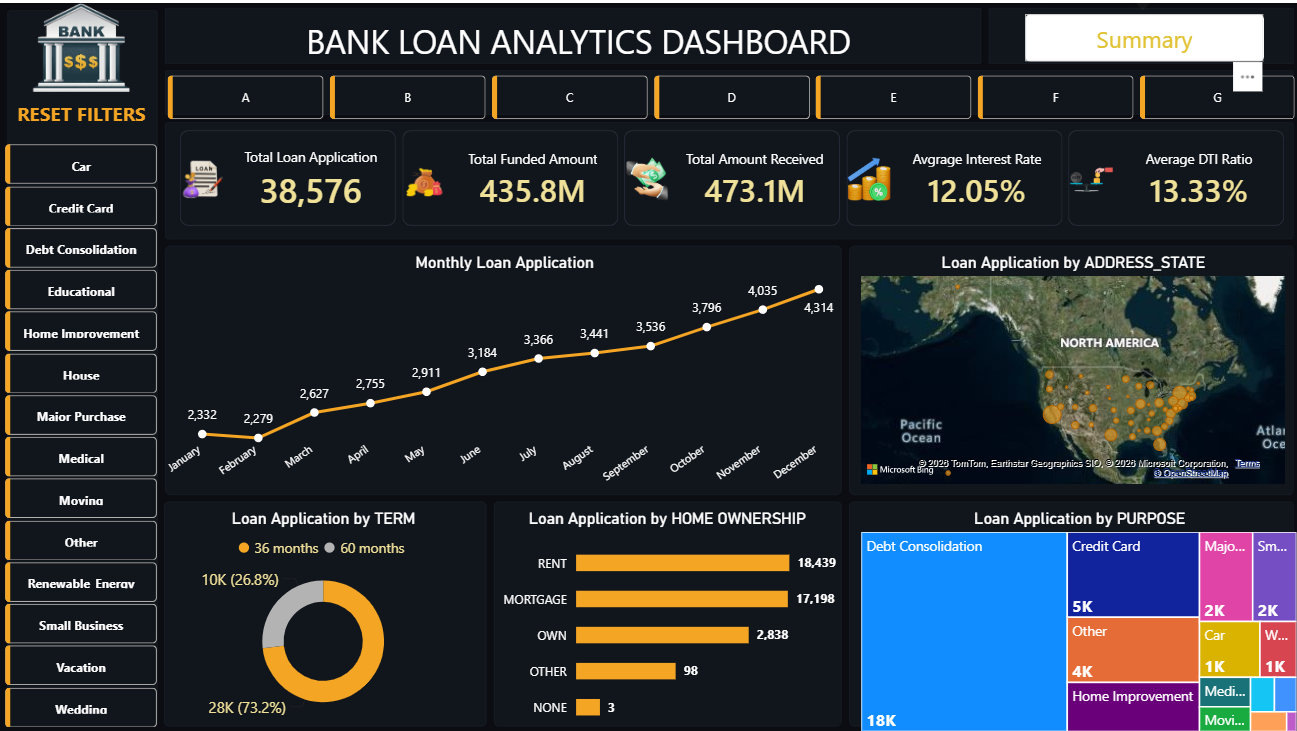

The dashboard page shown, as its layout file describes it:
{"tool":"powerbi","page":{"name":"Overview","canvas":[1280,720],"ordinal":1},"visuals":[{"type":"cardVisual","fields":{"Data":["financial_loan.Total Loan Application","financial_loan.Total Funded Amount","financial_loan.Total Amount Received","financial_loan.Avg Int Rate","financial_loan.Avg DTI Rate"]},"box":[160.7,108,1119,128.8],"z":0},{"type":"image","box":[1.2,0,159.5,87.1],"z":1000},{"type":"advancedSlicerVisual","fields":{"Values":["financial_loan.PURPOSE"]},"box":[1.2,133.7,159.5,586.5],"z":2000},{"type":"advancedSlicerVisual","fields":{"Values":["financial_loan.GRADE"]},"box":[160.7,66.3,1119,54],"z":3000},{"type":"actionButton","box":[8.6,93.3,144.8,29.4],"z":4000},{"type":"textbox","box":[255.2,11,627,55.2],"z":5000},{"type":"actionButton","box":[1007.4,11,234.4,46.6],"z":6000},{"type":"lineChart","title":"Monthly Loan Application","fields":{"Y":["_Measures.Total Loan Application"],"Category":["financial_loan.ISSUE_DATE.Variation.Date Hierarchy.Month"]},"box":[160.7,245.4,666.3,231.9],"z":7000},{"type":"donutChart","title":"Loan Application by TERM","fields":{"Category":["financial_loan.TERM"],"Y":["_Measures.Total Loan Application"]},"box":[160.7,496.9,315.3,212.3],"z":8000},{"type":"clusteredBarChart","title":"Loan Application by HOME OWNERSHIP","fields":{"Y":["_Measures.Total Loan Application"],"Category":["financial_loan.HOME_OWNERSHIP"]},"box":[484.7,496.9,342.3,223.3],"z":9000},{"type":"treemap","title":"Loan Application by PURPOSE","fields":{"Group":["financial_loan.PURPOSE"],"Values":["_Measures.Total Loan Application"]},"box":[841.7,496.9,438,223.3],"z":10000},{"type":"map","title":"Loan Application by ADDRESS_STATE","fields":{"Category":["financial_loan.ADDRESS_STATE"],"Size":["_Measures.Total Loan Application"]},"box":[841.7,245.4,425.8,231.9],"z":11000}]}

Visuals, with their boxes in screenshot pixels (x1, y1, x2, y2), scaled from the page's 1280x720 canvas onto the 1297x731 screenshot:
cardVisual - financial_loan.Total Loan Application x financial_loan.Total Funded Amount: box(163, 110, 1296, 240)
image: box(1, 0, 163, 88)
advancedSlicerVisual - financial_loan.PURPOSE: box(1, 136, 163, 730)
advancedSlicerVisual - financial_loan.GRADE: box(163, 67, 1296, 122)
actionButton: box(9, 95, 155, 125)
textbox: box(259, 11, 894, 67)
actionButton: box(1021, 11, 1258, 58)
"Monthly Loan Application" lineChart: box(163, 249, 838, 485)
"Loan Application by TERM" donutChart: box(163, 504, 482, 720)
"Loan Application by HOME OWNERSHIP" clusteredBarChart: box(491, 504, 838, 730)
"Loan Application by PURPOSE" treemap: box(853, 504, 1296, 730)
"Loan Application by ADDRESS_STATE" map: box(853, 249, 1284, 485)
